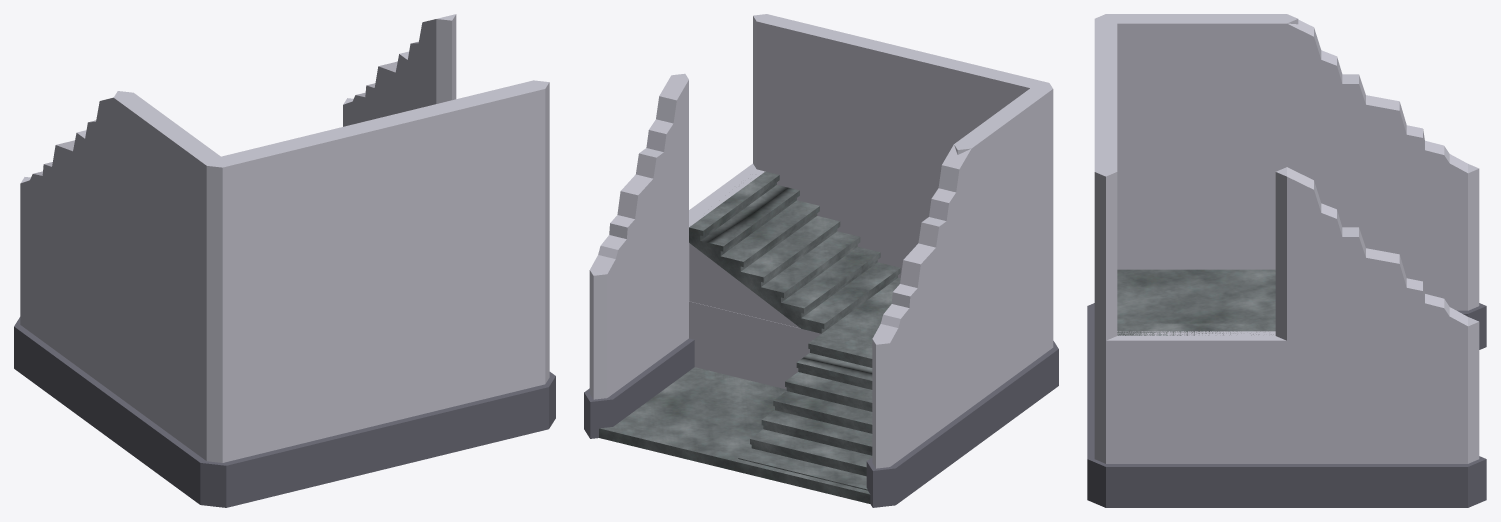
File: corner_stair_02.fbx
3 renders of one model, left to right at view 1: azimuth 30°, elevation 25°; view 2: azimuth 150°, elevation 25°; view 3: azimuth 270°, elevation 25°, orthographic. The views are drawn at different scales.
Visible parts, largest first — view 1: wall_corner_8, corner_01_1, wall_straight_9, corner_01_2, wall_01_4, wall_ruined_10, wall_ruined_6; view 2: wall_corner_8, wall_straight_9, stairs_07_7, wall_01_4, wall_01_3, corner_01_1, stairs_07_5, floor_01_0, wall_ruined_6, wall_ruined_10, raised_floor_01_6, corner_01_2 (+1 smaller); view 3: corner_01_2, wall_01_3, wall_corner_8, wall_ruined_6, wall_ruined_10, corner_01_1, wall_01_4, block_default_11, wall_straight_9, stairs_07_7.
Boxes of the visible parts, x1,y1,x2,y2 form: wall_corner_8: [113, 91, 387, 336]; corner_01_1: [107, 267, 387, 507]; wall_straight_9: [368, 80, 549, 296]; corner_01_2: [378, 251, 555, 468]; wall_01_4: [14, 198, 113, 436]; wall_ruined_10: [20, 93, 132, 265]; wall_ruined_6: [343, 14, 456, 124]; wall_corner_8: [894, 48, 1053, 295]; wall_straight_9: [753, 14, 908, 203]; stairs_07_7: [689, 171, 900, 333]; wall_01_4: [866, 296, 977, 507]; wall_01_3: [584, 228, 694, 438]; corner_01_1: [898, 204, 1058, 445]; stairs_07_5: [738, 333, 872, 490]; floor_01_0: [599, 367, 870, 503]; wall_ruined_6: [589, 73, 688, 288]; wall_ruined_10: [872, 143, 971, 357]; raised_floor_01_6: [689, 301, 820, 389]; corner_01_2: [686, 163, 897, 340]; corner_01_2: [1087, 331, 1286, 507]; wall_01_3: [1280, 336, 1486, 507]; wall_corner_8: [1094, 14, 1298, 187]; wall_ruined_6: [1275, 167, 1479, 340]; wall_ruined_10: [1276, 14, 1479, 187]; corner_01_1: [1087, 187, 1275, 385]; wall_01_4: [1316, 183, 1486, 349]; block_default_11: [1117, 269, 1275, 323]; wall_straight_9: [1094, 90, 1117, 340]; stairs_07_7: [1117, 323, 1275, 335].
Size of the model in its own units: 22.05 by 20 by 22.05.
